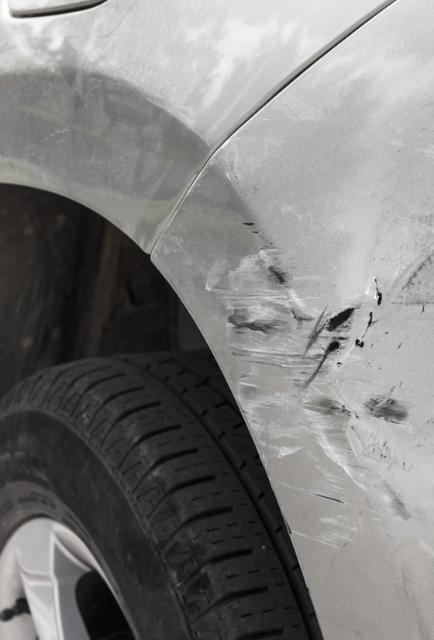Bumper: (137, 0, 434, 640)
